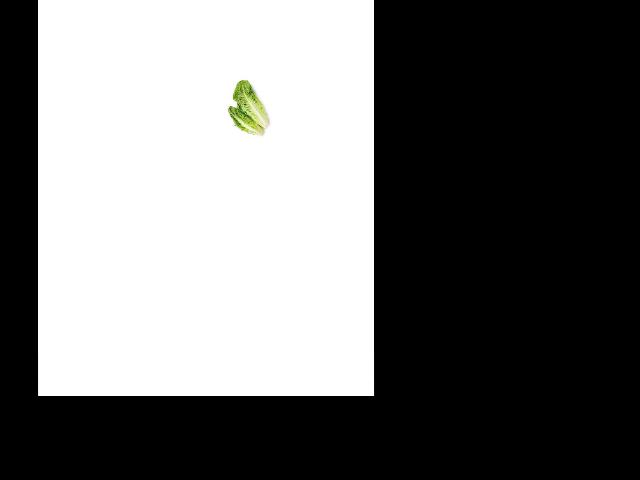lettuce: (231, 79, 271, 124)
